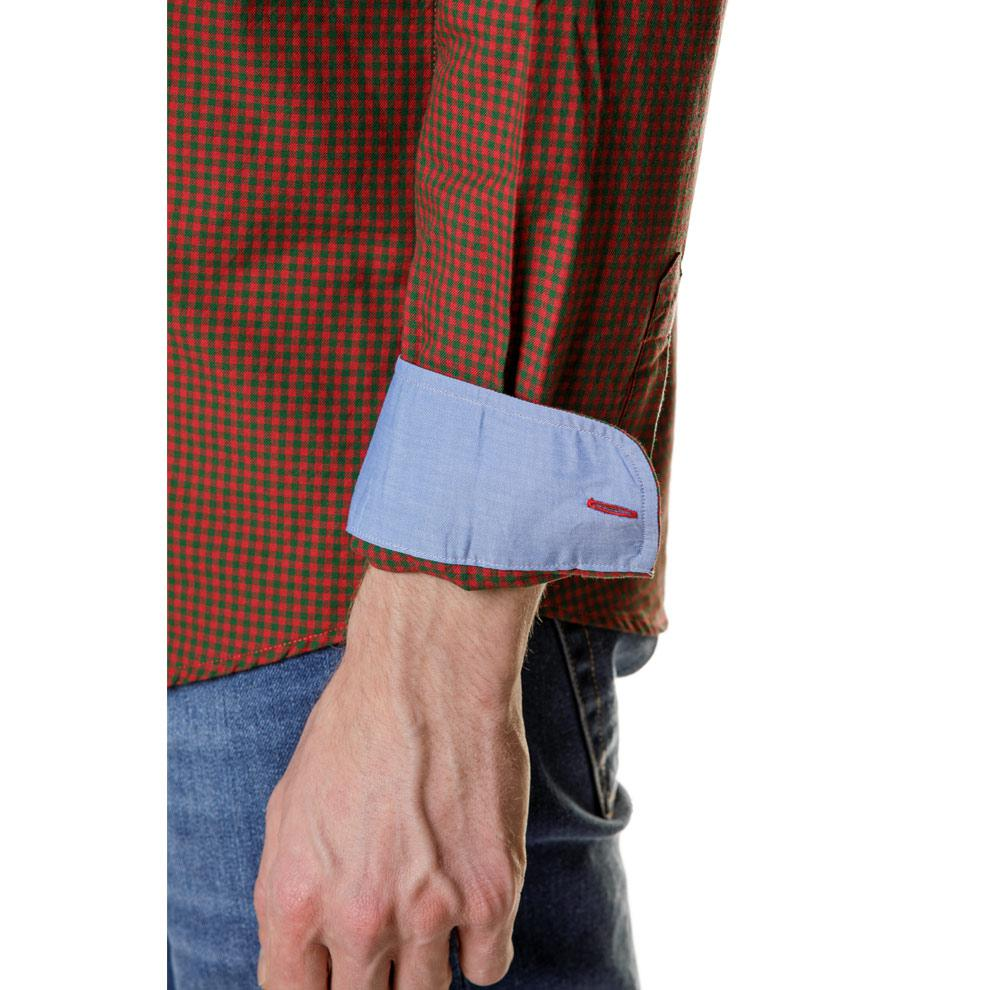teeshirt: (163, 1, 709, 731)
